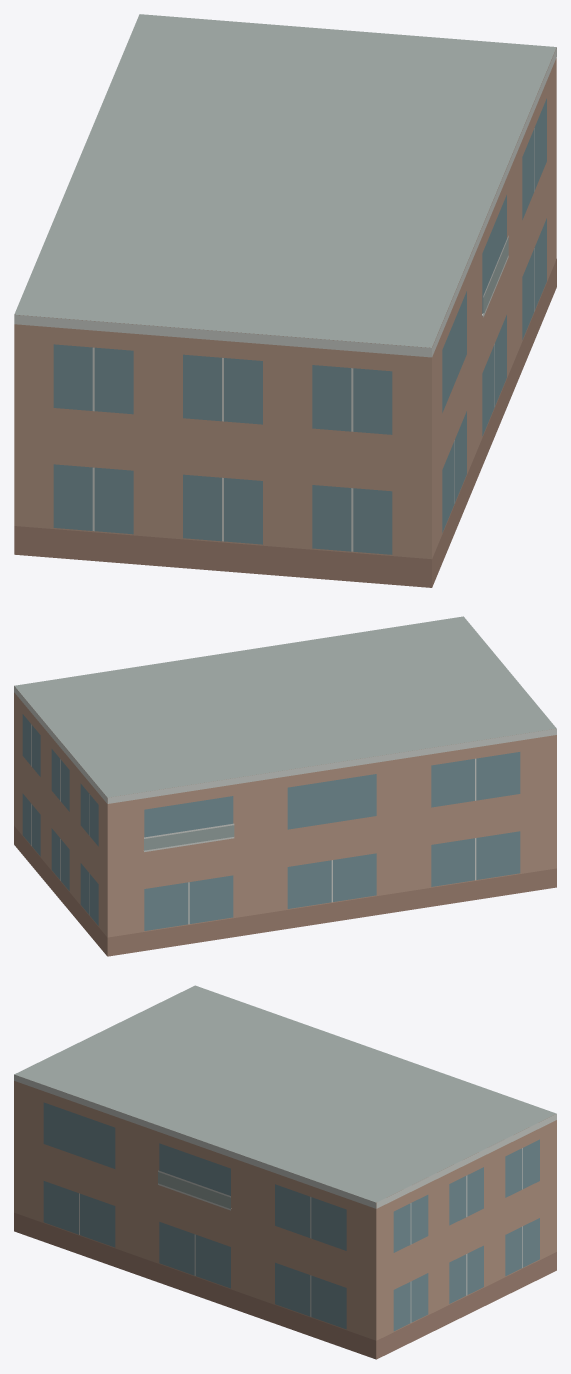
The model's file is survey-upis-32989639.glb.
3 renders of one model, top to bottom at view 1: azimuth 30°, elevation 25°; view 2: azimuth 150°, elevation 25°; view 3: azimuth 270°, elevation 25°, orthographic. The views are drawn at different scales.
Parts seen in each view (by area): view 1: survey-upis-32989639.tmp; view 2: survey-upis-32989639.tmp; view 3: survey-upis-32989639.tmp.
Part boxes in pixels (<box>): survey-upis-32989639.tmp: <box>14,14,556,587</box>; survey-upis-32989639.tmp: <box>14,616,556,956</box>; survey-upis-32989639.tmp: <box>14,985,556,1359</box>.
Size of the model in its own units: 18.13 by 6.1 by 19.14.
